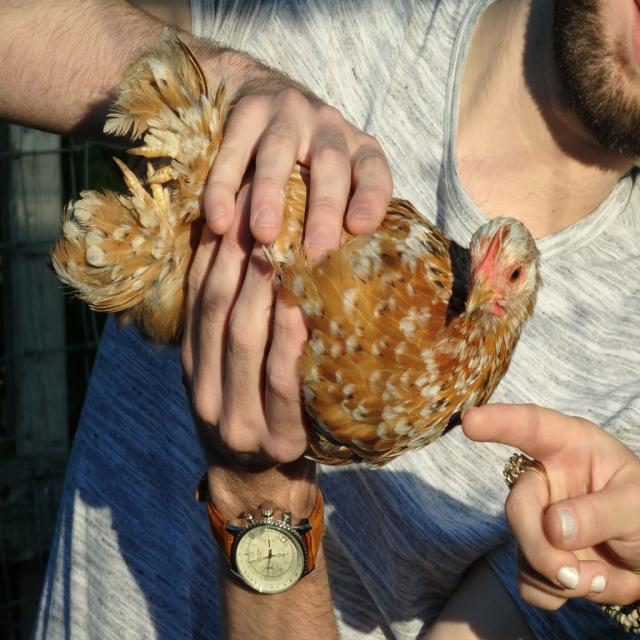Chicken: (49, 24, 540, 467)
